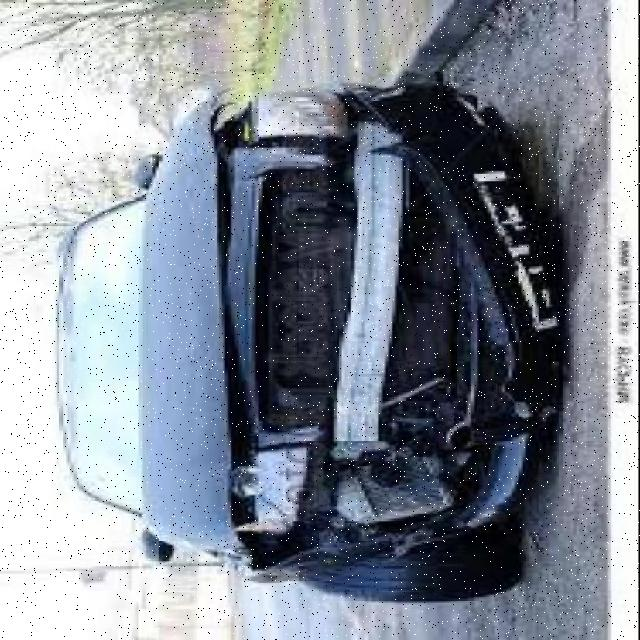damage: (195, 83, 550, 585)
